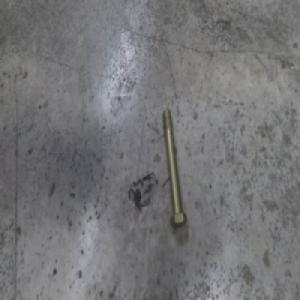Bolt: (163, 107, 189, 226)
